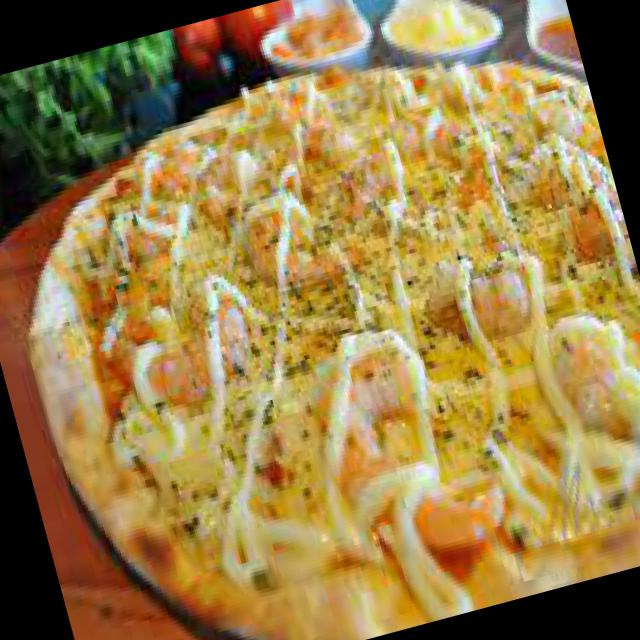camarao: (300, 328, 448, 490), (229, 178, 370, 320), (128, 267, 260, 398), (418, 235, 554, 354)
pizza: (0, 34, 639, 639)
